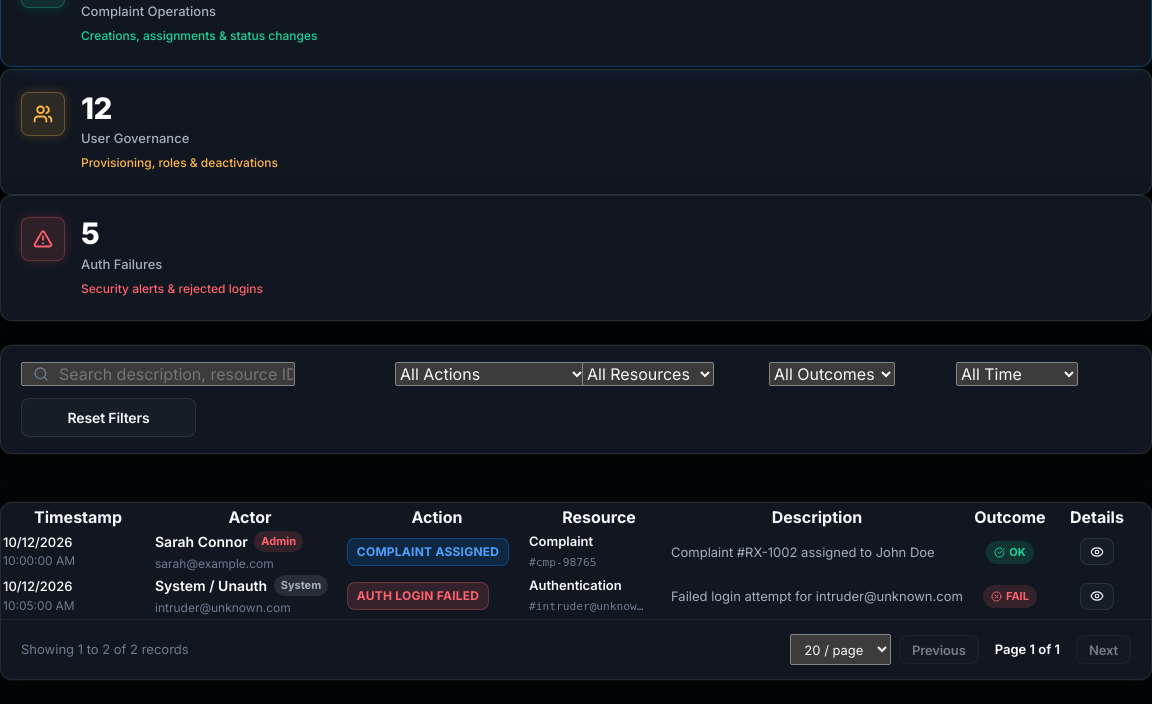
Test: Frontend Audit Logs & Accountability Page Tests › opens detailed change diff and metadata modal when inspecting an entry
(page scrolled)
Check: the text "Sarah Connor" is shown, box top-left (155, 531), bottom-right (248, 552)
Click the button titled "Inspect changes & metadata" in the row of "10:00:00 AM".
click(1097, 552)  # box top-left (1080, 538), bottom-right (1114, 565)
(page scrolled)
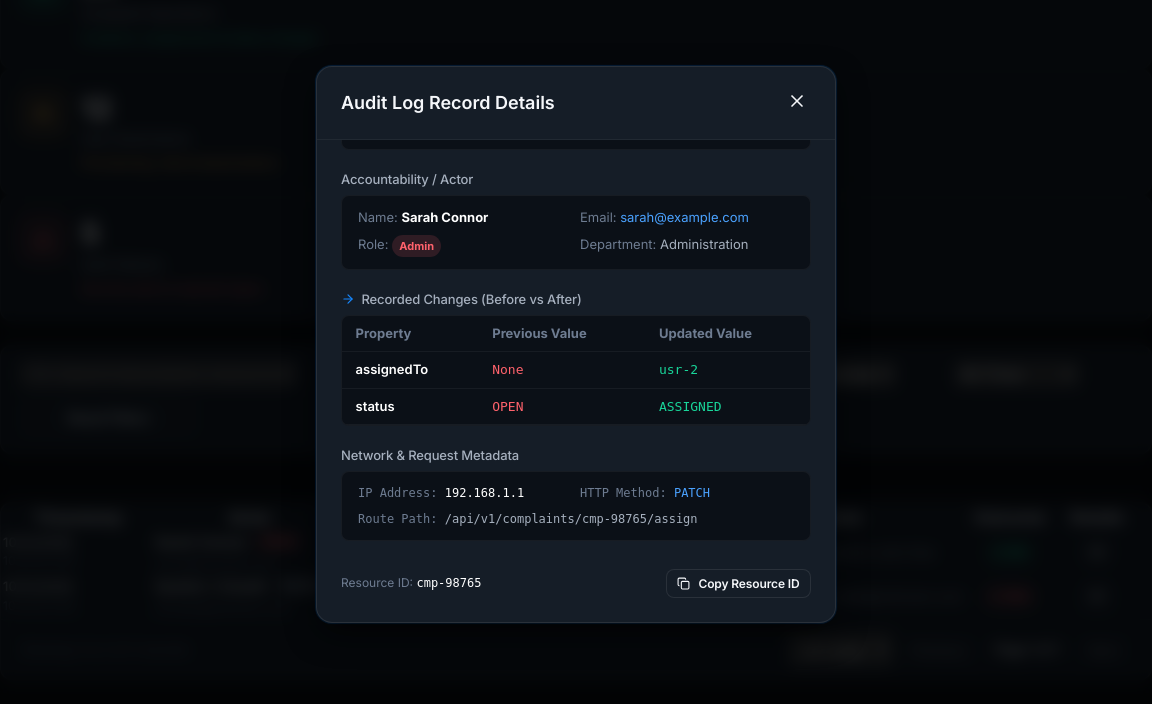
Check: the heading "Audit Log Record Details" is shown, box top-left (341, 89), bottom-right (555, 116)
Check: the text "Recorded Changes (Before vs After)" is shown, box top-left (341, 291), bottom-right (582, 307)
Check: the text "assignedTo" is shown, box top-left (342, 352), bottom-right (479, 388)
